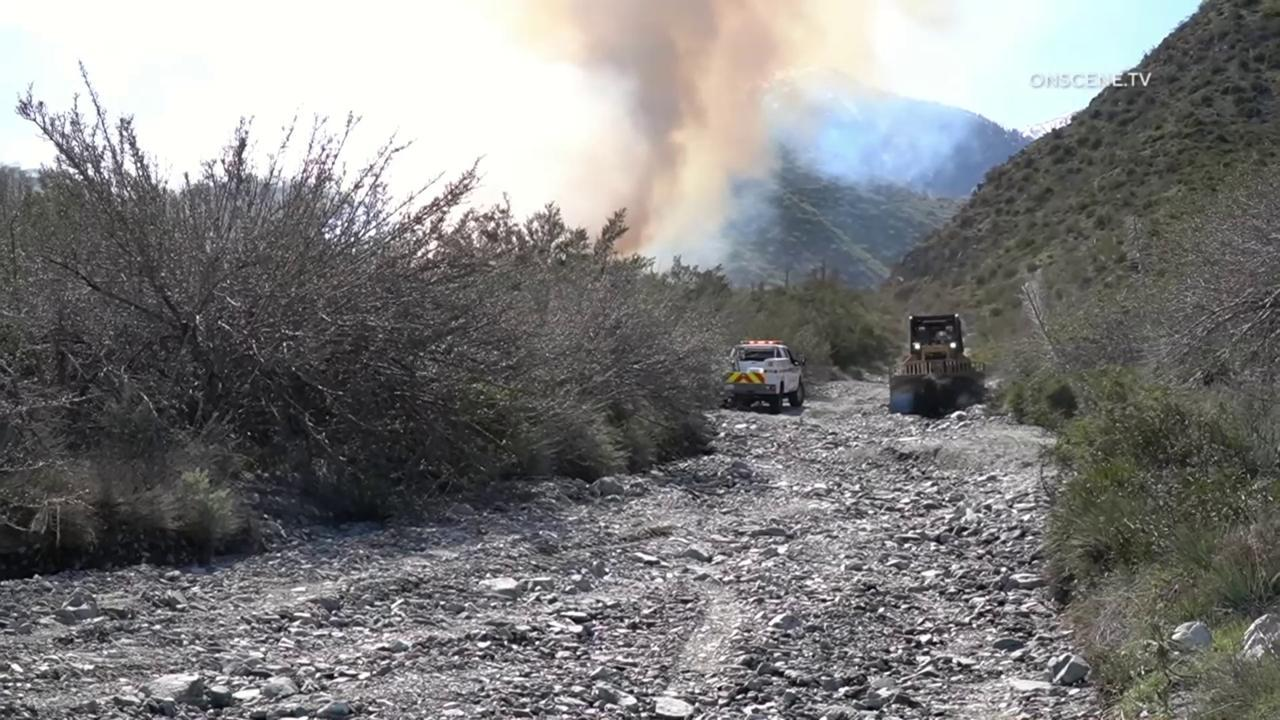smoke: (0, 0, 978, 288)
